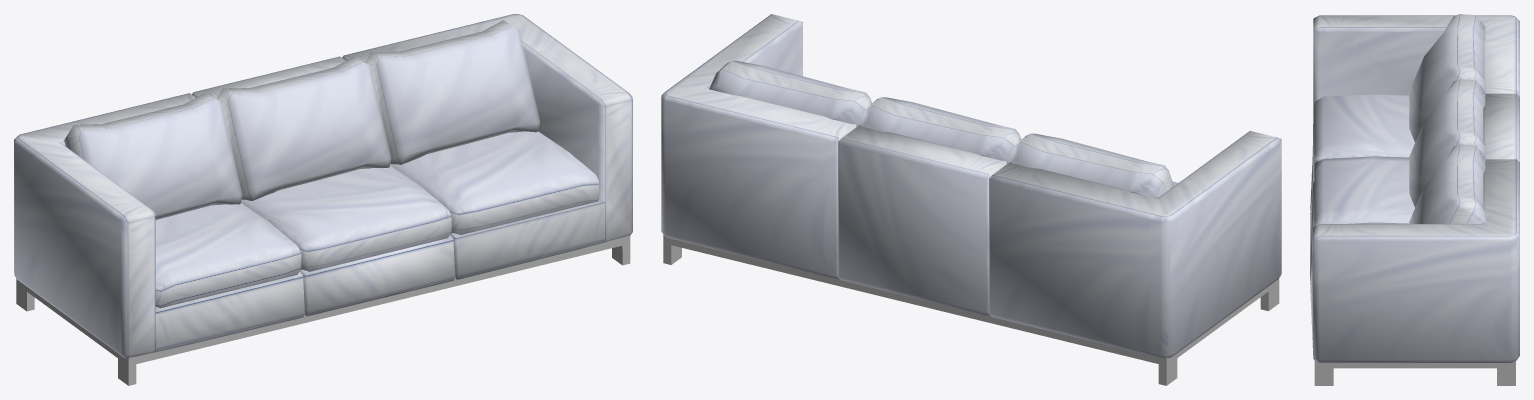
Rendered from Chair_Couch3p.fbx.
The picture shows the model from 3 angles, left to right: view 1: azimuth 30°, elevation 25°; view 2: azimuth 150°, elevation 25°; view 3: azimuth 270°, elevation 25°; orthographic projection. The views are drawn at different scales.
Visible parts, largest first — view 1: M_Living_Couch3p; view 2: M_Living_Couch3p; view 3: M_Living_Couch3p.
Part boxes in pixels (x1,y1,x2,y2): M_Living_Couch3p: [14, 14, 632, 385]; M_Living_Couch3p: [661, 14, 1281, 385]; M_Living_Couch3p: [1310, 14, 1519, 385].
Size of the model in its own units: 285 by 100 by 113.
